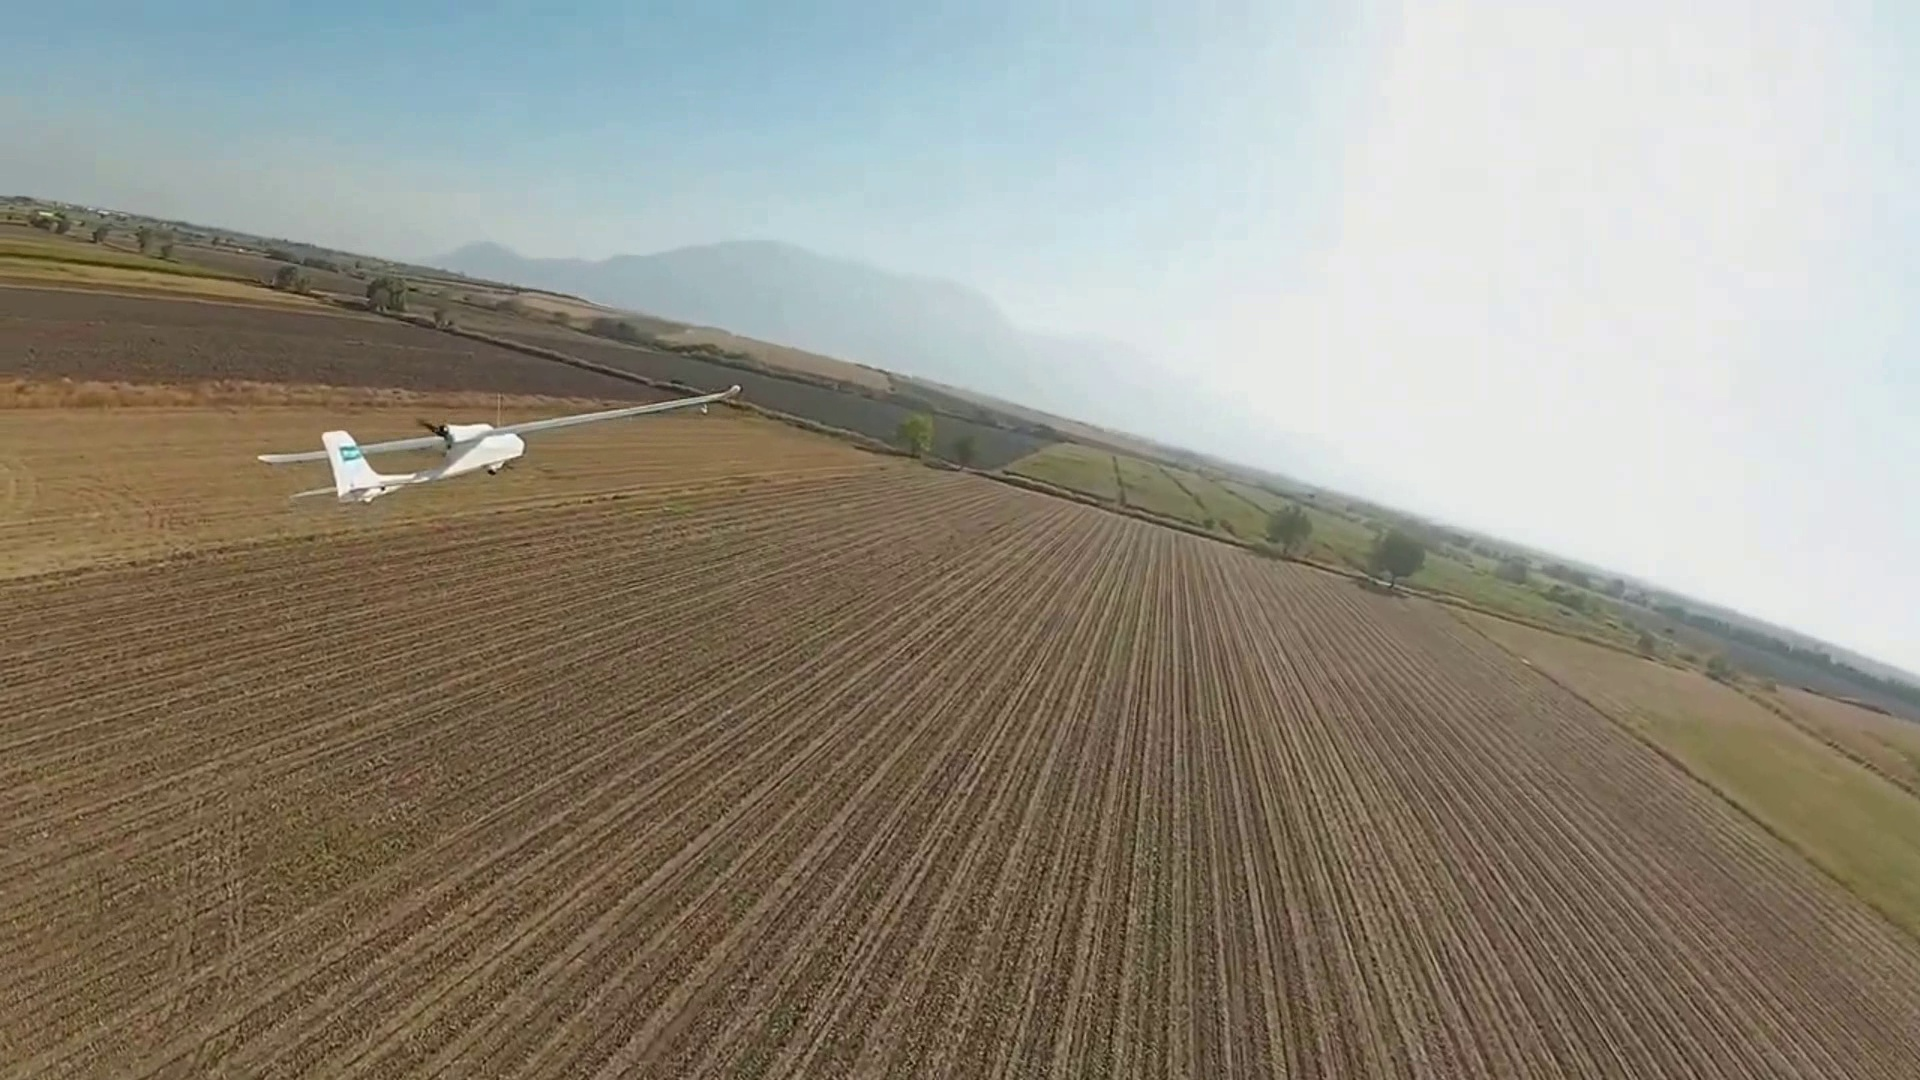airplane: (148, 247, 1913, 767), (255, 419, 525, 504)
